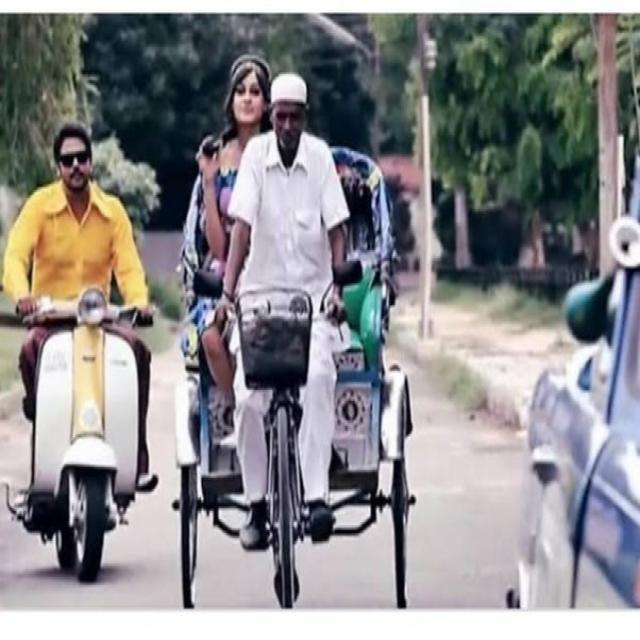bicycle: (176, 55, 415, 606)
motorcycle: (5, 120, 158, 581)
